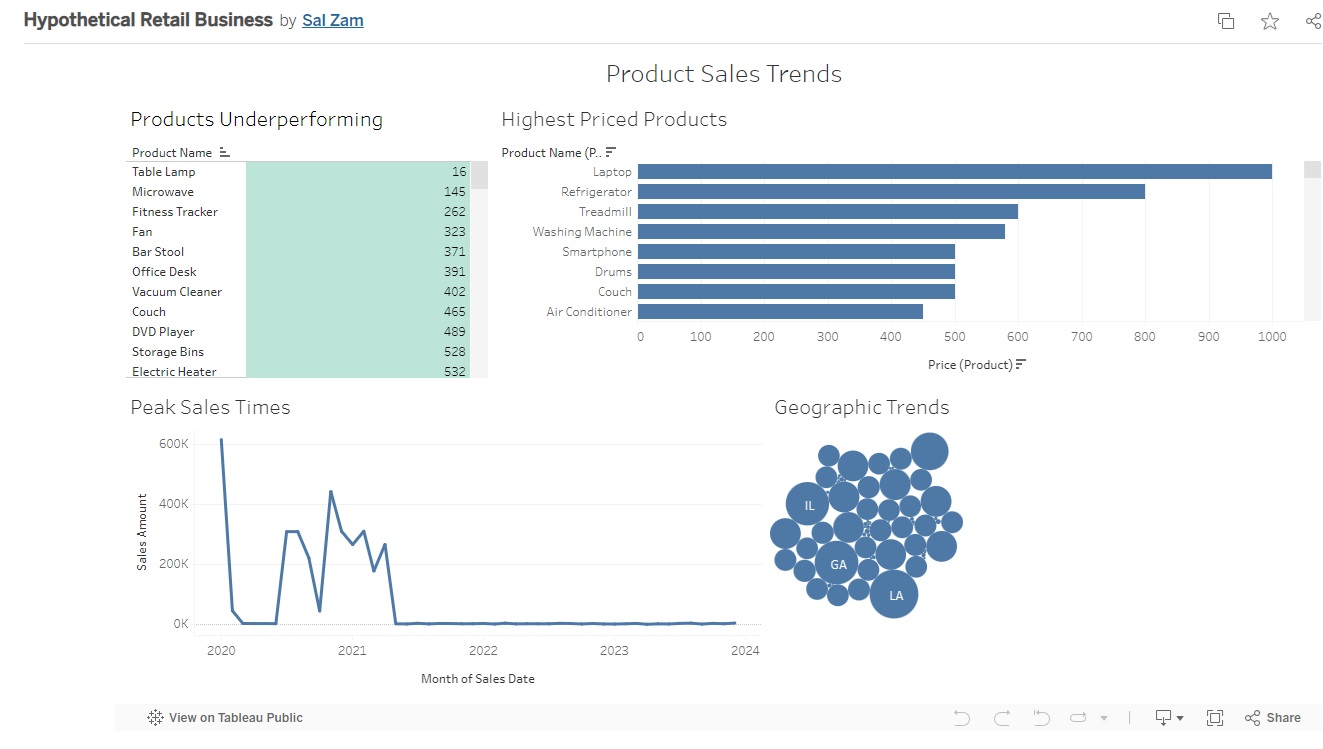

The page's visual inventory and layout, read from the dashboard file:
{"tool":"tableau","page":{"name":"Dashboard","canvas":[1000,1000],"units":"permille","ordinal":0},"visuals":[{"type":"title","box":[6.6,11.8,986.9,62]},{"type":"worksheet","title":"Products Underperforming","mark":"Square","rows":["Product_Name"],"box":[6.6,73.9,304.1,425.4]},{"type":"worksheet","title":"Highest Priced Products","mark":"Automatic","rows":["Product_Name (Product)"],"cols":["Price (Product)"],"box":[310.7,73.9,682.8,425.4]},{"type":"worksheet","title":"Peak Sales Times","mark":"Automatic","rows":["Sales_Amount"],"cols":["Sales_Date"],"box":[6.6,499.3,527.8,488.9]},{"type":"worksheet","title":"Geographic Trends","mark":"Circle","box":[534.4,499.3,459,370.8]}]}

Visuals, with their boxes on the dashboard's canvas, which has no fixed pixel size, in thousandths of its width and height (x1, y1, x2, y2). These are canvas units, not pixel positions in the 1323x749 screenshot, which may show the page scaled, cropped or inside an application window:
title: bbox=(7, 12, 994, 74)
"Products Underperforming" worksheet (Square marks): bbox=(7, 74, 311, 499)
"Highest Priced Products" worksheet: bbox=(311, 74, 994, 499)
"Peak Sales Times" worksheet: bbox=(7, 499, 534, 988)
"Geographic Trends" worksheet (Circle marks): bbox=(534, 499, 993, 870)
